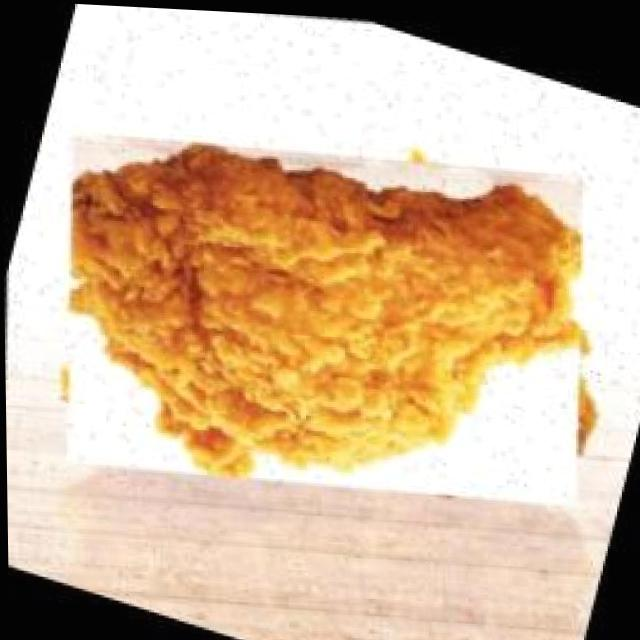fried_chicken: (0, 15, 640, 611)
